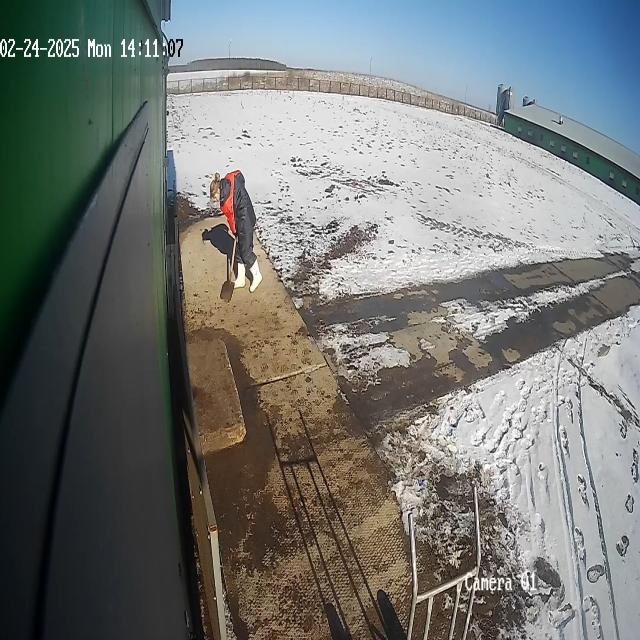Red uniform: (201, 167, 264, 296)
